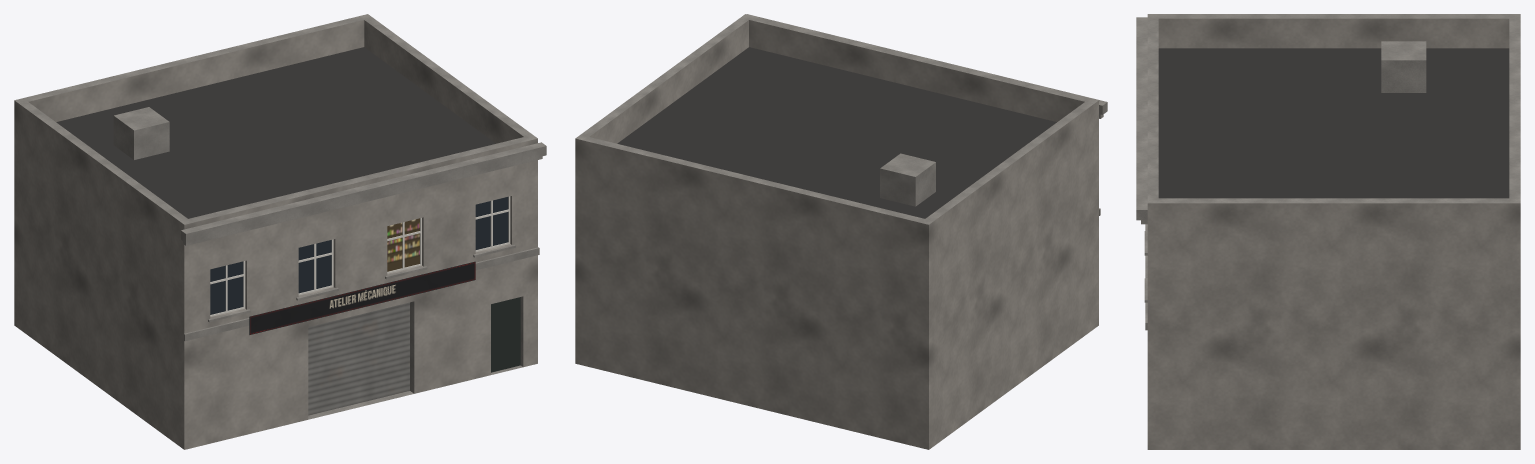
File: Bld_Garage.fbx
The picture shows the model from 3 angles, left to right: view 1: azimuth 30°, elevation 25°; view 2: azimuth 150°, elevation 25°; view 3: azimuth 270°, elevation 25°; orthographic projection. The views are drawn at different scales.
Visible parts, largest first — view 1: Bld_Garage; view 2: Bld_Garage; view 3: Bld_Garage.
Boxes of the visible parts, x1=… form: Bld_Garage: x1=14, y1=14, x2=546, y2=449; Bld_Garage: x1=575, y1=14, x2=1107, y2=449; Bld_Garage: x1=1136, y1=14, x2=1520, y2=449.
Bounding box in the file's own units: 12.24 × 7.38 × 10.3.
